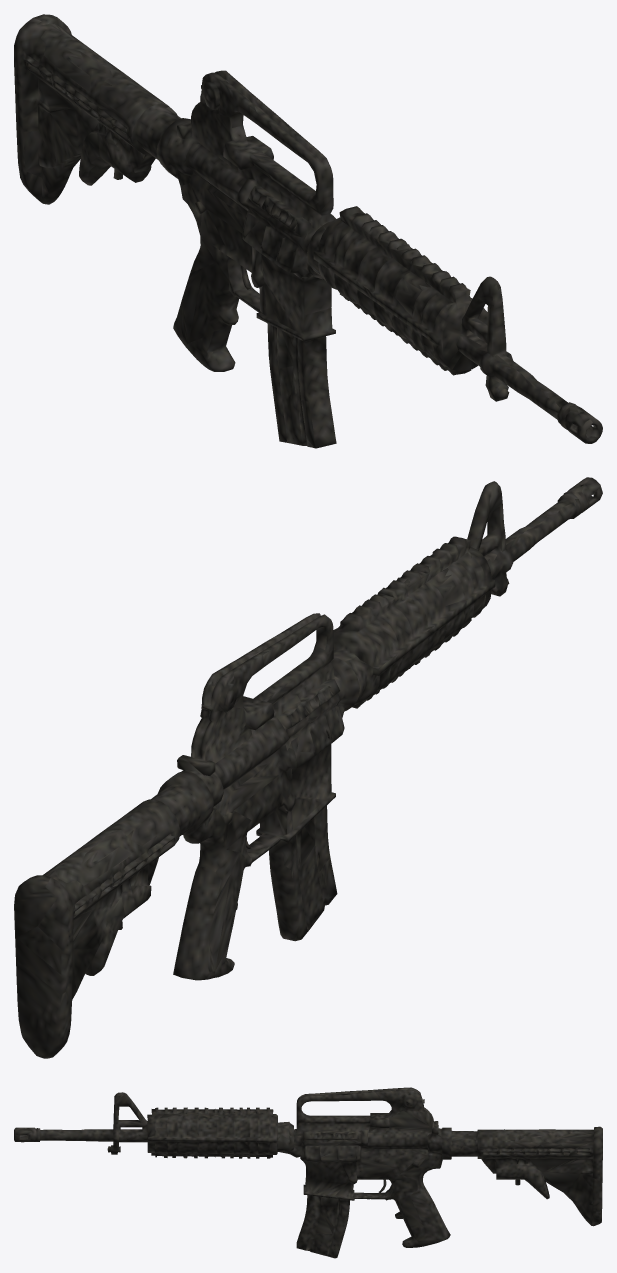
The model's file is m4a1_prop.glb.
3 views of the same model, one above another, from view 1: azimuth 30°, elevation 25°; view 2: azimuth 150°, elevation 25°; view 3: azimuth 270°, elevation 25° (orthographic). The views are drawn at different scales.
Visible parts, largest first — view 1: model; view 2: model; view 3: model.
Boxes of the visible parts, left/top/right/bottom form: model: left=14, top=14, right=602, bottom=448; model: left=14, top=477, right=602, bottom=1058; model: left=14, top=1087, right=602, bottom=1258.
Size of the model in its own units: 0.122 by 0.5691 by 1.81.
1 material, 1 textured.
